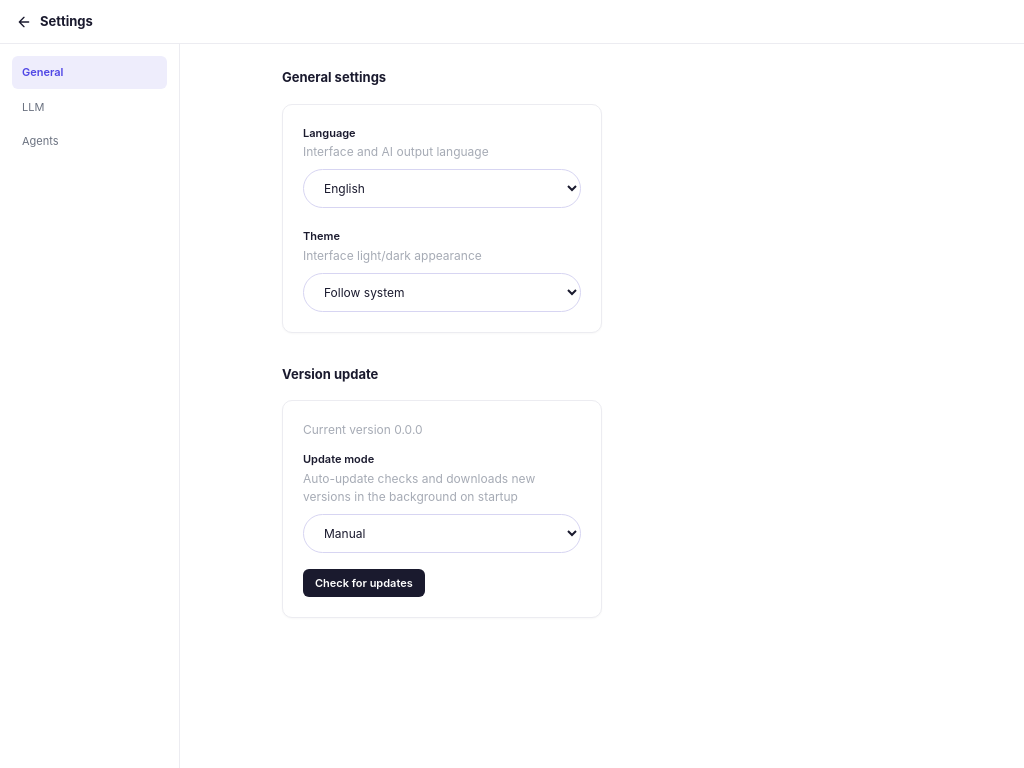
Test case: Settings Page › should switch to agents tab
Step 1. Click the button "Agents" → {"x": 90, "y": 141}, box left=12, top=125, right=167, bottom=158
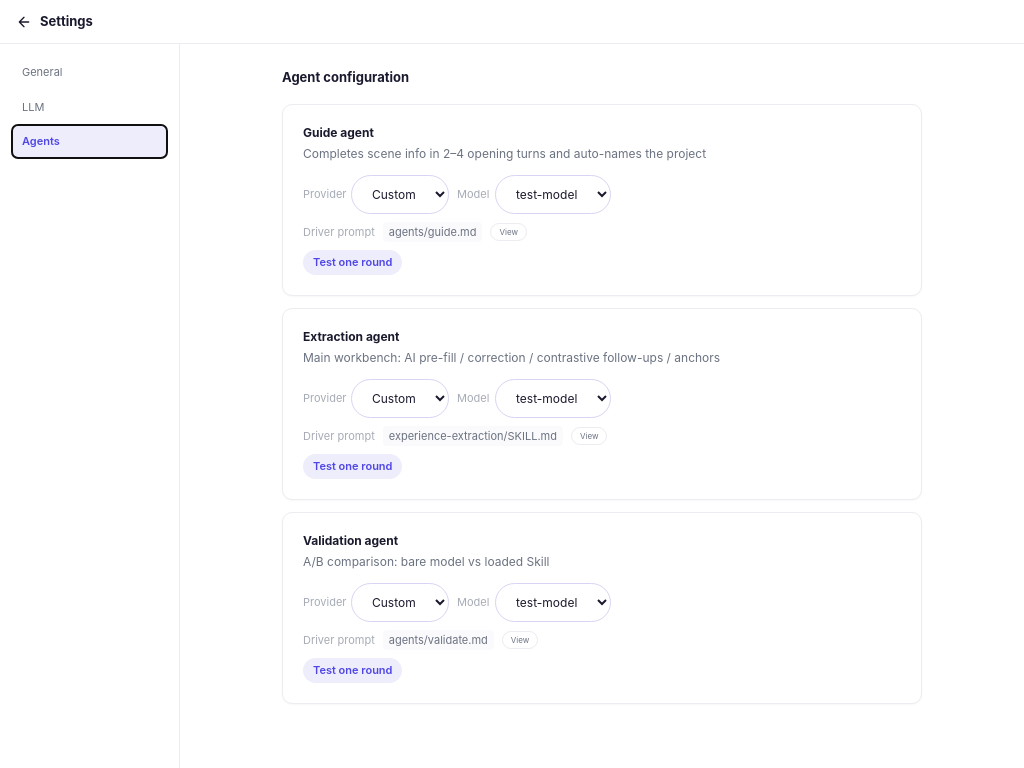
Now the heading "Guide agent" is shown, box left=303, top=124, right=374, bottom=140
Now the heading "Extraction agent" is shown, box left=303, top=328, right=400, bottom=344
Now the heading "Validation agent" is shown, box left=303, top=532, right=398, bottom=548
